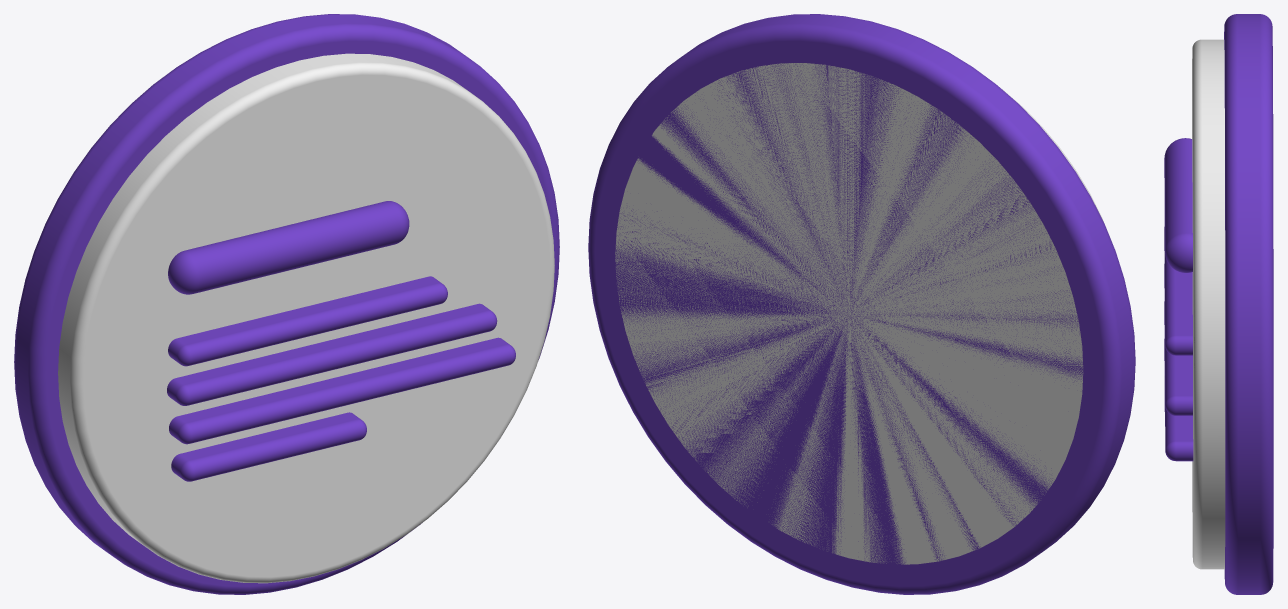
The model's file is ttc-explainer-poc-pop-up.glb.
3 renders of one model, left to right at view 1: azimuth 30°, elevation 25°; view 2: azimuth 150°, elevation 25°; view 3: azimuth 270°, elevation 25°, orthographic. The views are drawn at different scales.
Visible parts, largest first — view 1: fill, text (×5), outline; view 2: fill, outline; view 3: outline, fill, text (×4).
Boxes of the visible parts, left/top/right/bottom form: fill: left=58, top=53, right=554, bottom=583; text (×5): left=167, top=201, right=515, bottom=481; outline: left=14, top=14, right=559, bottom=594; fill: left=615, top=63, right=1107, bottom=564; outline: left=588, top=14, right=1135, bottom=594; outline: left=1224, top=14, right=1273, bottom=594; fill: left=1192, top=39, right=1225, bottom=569; text (×4): left=1164, top=138, right=1193, bottom=461.
Size of the model in its own units: 0.131 by 0.1309 by 0.0246.
